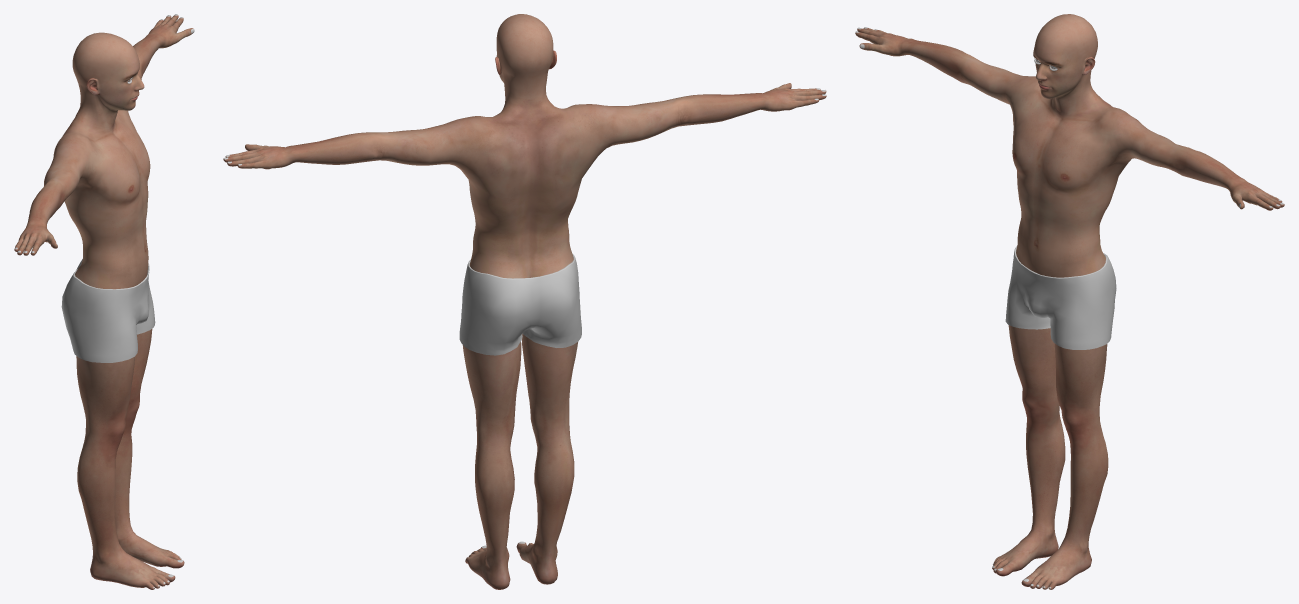
3 renders of one model, left to right at view 1: azimuth 30°, elevation 25°; view 2: azimuth 150°, elevation 25°; view 3: azimuth 270°, elevation 25°, orthographic. The views are drawn at different scales.
Parts seen in each view (by area): view 1: 1st_body; view 2: 1st_body; view 3: 1st_body.
Part boxes in pixels (<box>): 1st_body: <box>14,14,194,589</box>; 1st_body: <box>223,14,826,589</box>; 1st_body: <box>855,14,1284,589</box>.
Bounding box in the file's own units: 2.62 × 3.65 × 2.62.
